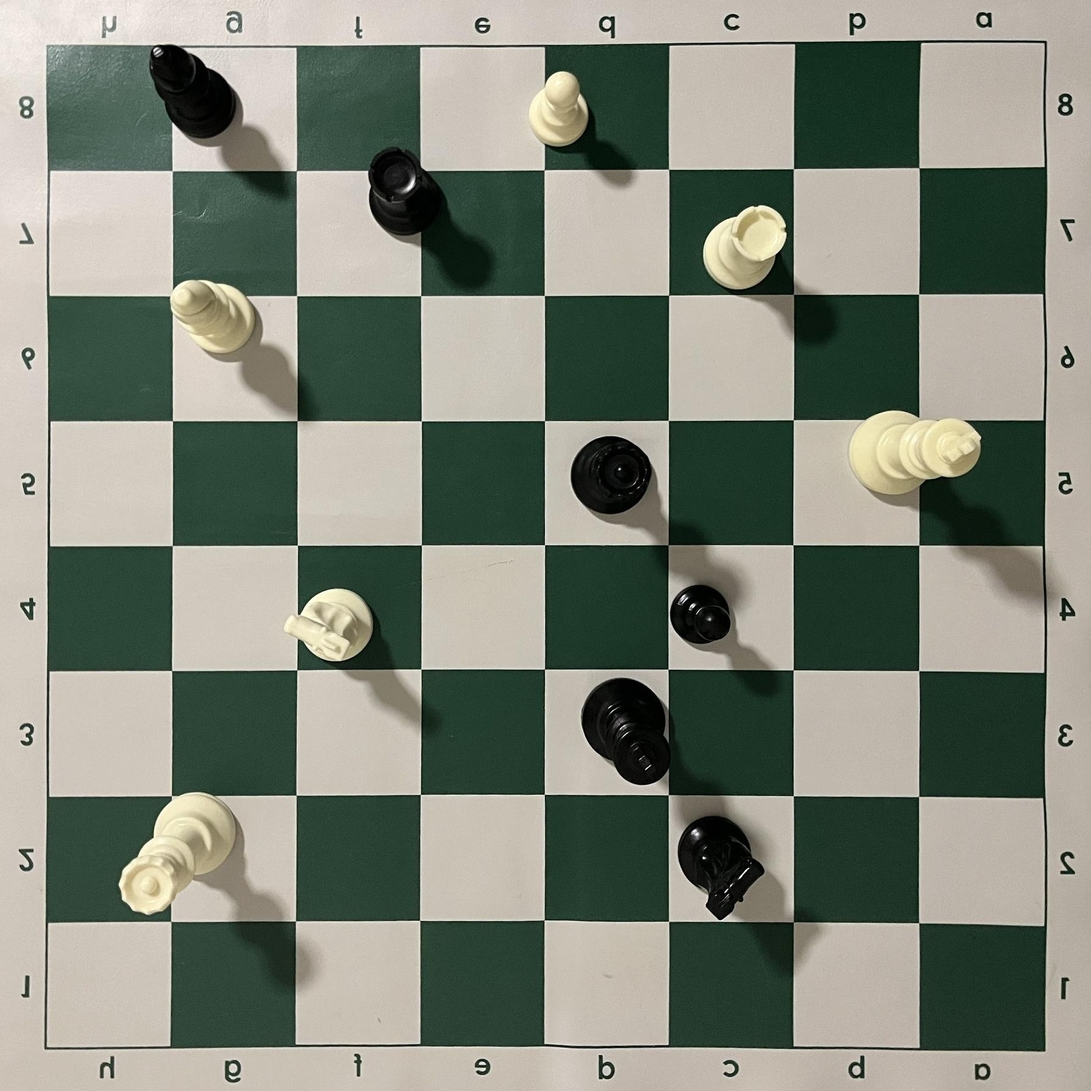black_bishop: (149, 44, 237, 140)
black_king: (581, 678, 671, 786)
black_knight: (677, 816, 766, 921)
black_pawn: (670, 584, 732, 645)
black_queen: (570, 436, 653, 517)
black_rook: (368, 147, 445, 236)
white_bishop: (169, 279, 256, 354)
white_king: (849, 410, 982, 496)
white_knight: (283, 588, 375, 663)
white_pawn: (528, 71, 589, 148)
white_queen: (118, 792, 238, 915)
white_rook: (703, 205, 787, 291)
